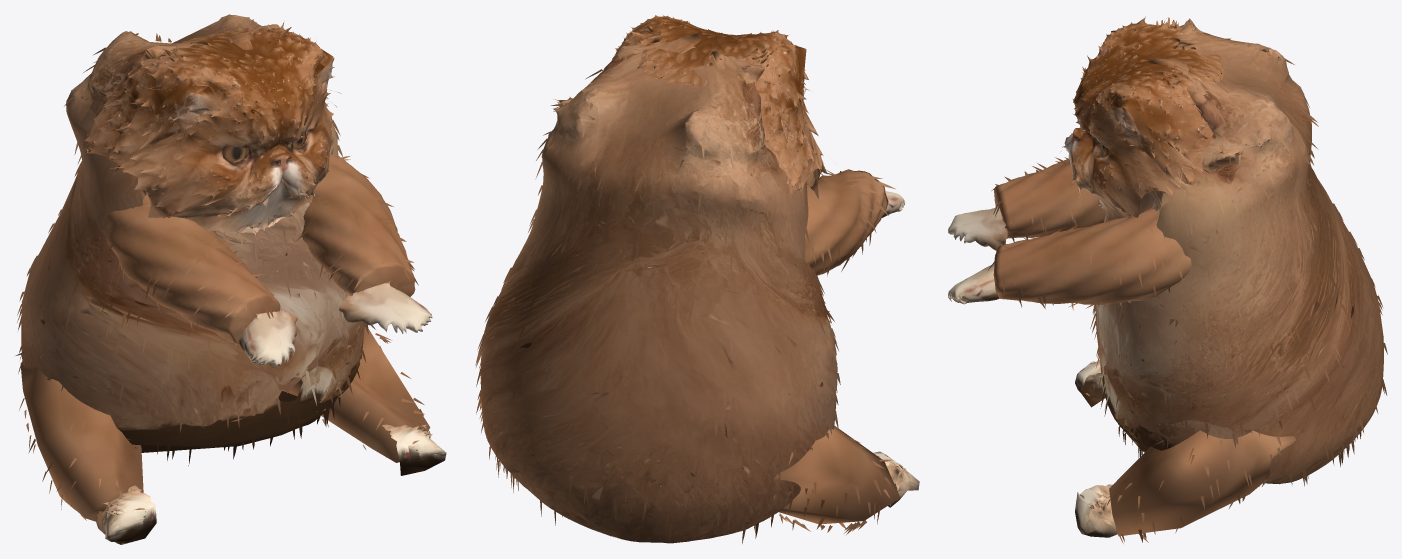
The model's file is zangzangbao-kart-v7.glb.
The picture shows the model from 3 angles, left to right: view 1: azimuth 30°, elevation 25°; view 2: azimuth 150°, elevation 25°; view 3: azimuth 270°, elevation 25°; orthographic projection. The views are drawn at different scales.
Parts seen in each view (by area): view 1: Continuous_original_furry_coat, Original_open_amber_eye_face, Left_furry_arm_white_paw, Right_furry_arm_white_paw; view 2: Continuous_original_furry_coat, Original_open_amber_eye_face, Left_furry_arm_white_paw; view 3: Continuous_original_furry_coat, Original_open_amber_eye_face, Right_furry_arm_white_paw, Left_furry_arm_white_paw.
Part boxes in pixels (x1=…): Continuous_original_furry_coat: x1=15, y1=14, x2=446, y2=544; Original_open_amber_eye_face: x1=82, y1=22, x2=334, y2=245; Left_furry_arm_white_paw: x1=101, y1=195, x2=297, y2=368; Right_furry_arm_white_paw: x1=296, y1=154, x2=432, y2=333; Continuous_original_furry_coat: x1=475, y1=25, x2=919, y2=543; Original_open_amber_eye_face: x1=611, y1=15, x2=827, y2=198; Left_furry_arm_white_paw: x1=805, y1=169, x2=905, y2=276; Continuous_original_furry_coat: x1=1075, y1=17, x2=1387, y2=543; Original_open_amber_eye_face: x1=1062, y1=16, x2=1225, y2=219; Right_furry_arm_white_paw: x1=948, y1=208, x2=1191, y2=310; Left_furry_arm_white_paw: x1=948, y1=157, x2=1106, y2=250.
Size of the model in its own units: 0.7501 by 0.8946 by 0.8344.
2 materials, 2 textured.
